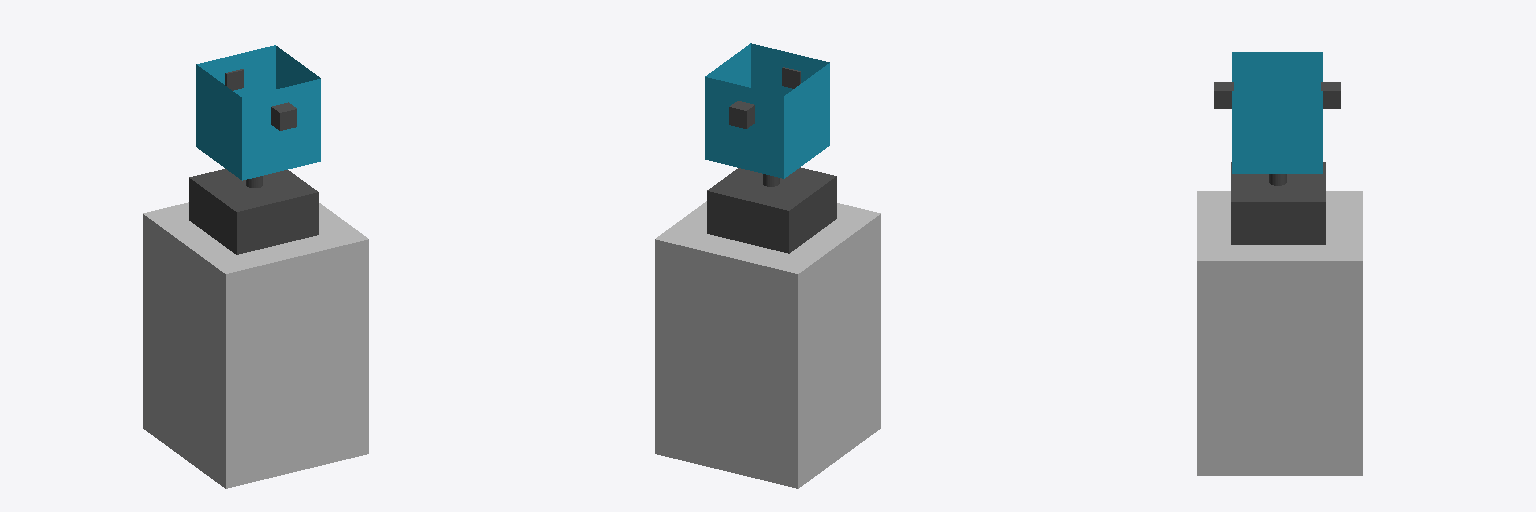
3 views of the same model, side by side, from view 1: azimuth 30°, elevation 25°; view 2: azimuth 150°, elevation 25°; view 3: azimuth 270°, elevation 25° (orthographic).
Parts seen in each view (by area): view 1: Cube_Cube.001; view 2: Cube_Cube.001; view 3: Cube_Cube.001.
Boxes of the visible parts, <box> form: Cube_Cube.001: <box>143,45,368,488</box>; Cube_Cube.001: <box>655,43,880,488</box>; Cube_Cube.001: <box>1197,52,1362,475</box>.
Bounding box in the file's own units: 7.19 × 17.69 × 7.19.
2 materials, 1 textured.